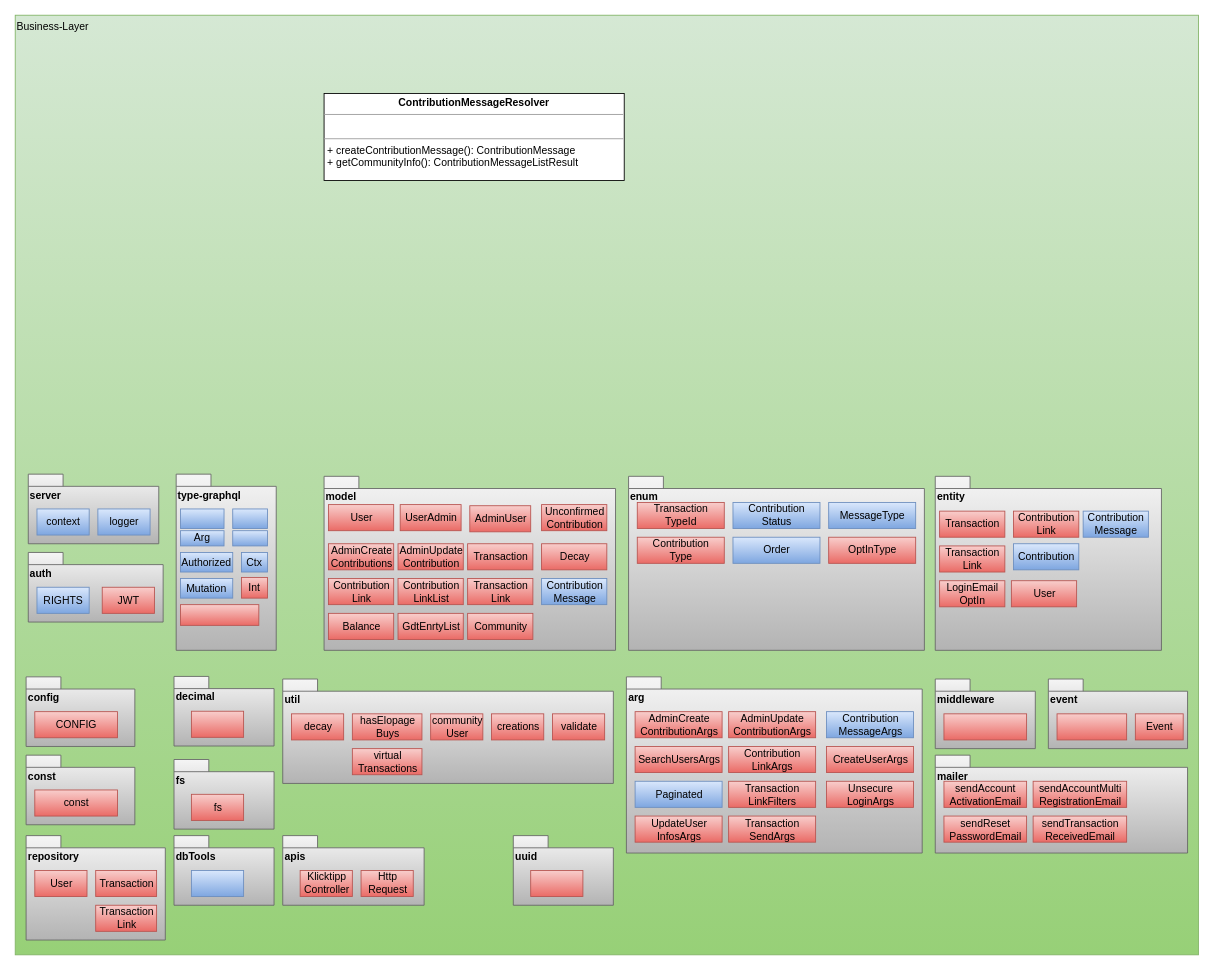
The diagram is 1214 pixels wide and 970 high, and some of its shapes have lost their labels. The shapes that lost their labels are listed below. From the top down, each one's centre as x and y in pixels, then its label:
At point 202,518: "Resolver".
At point 250,518: "Query".
At point 250,538: "Args".
At point 219,614: "UseMiddleware".
At point 217,723: "js-light".
At point 985,726: "klicktipp Middleware".
At point 1091,726: "EventProtocol Emitter".
At point 217,883: "typeorm".
At point 556,883: "v4".
